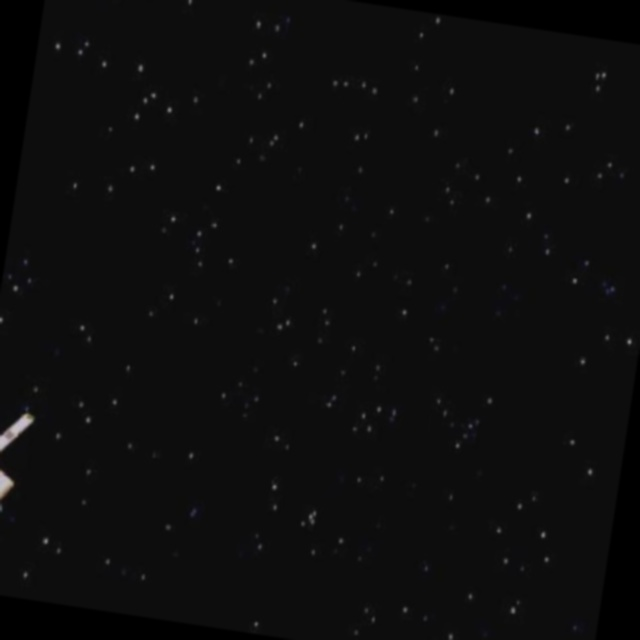medium_debris: (0, 404, 37, 530)
